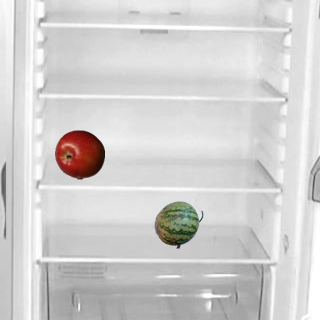Apple Braeburn: (54, 129, 104, 179)
Watermelon: (153, 199, 203, 249)
